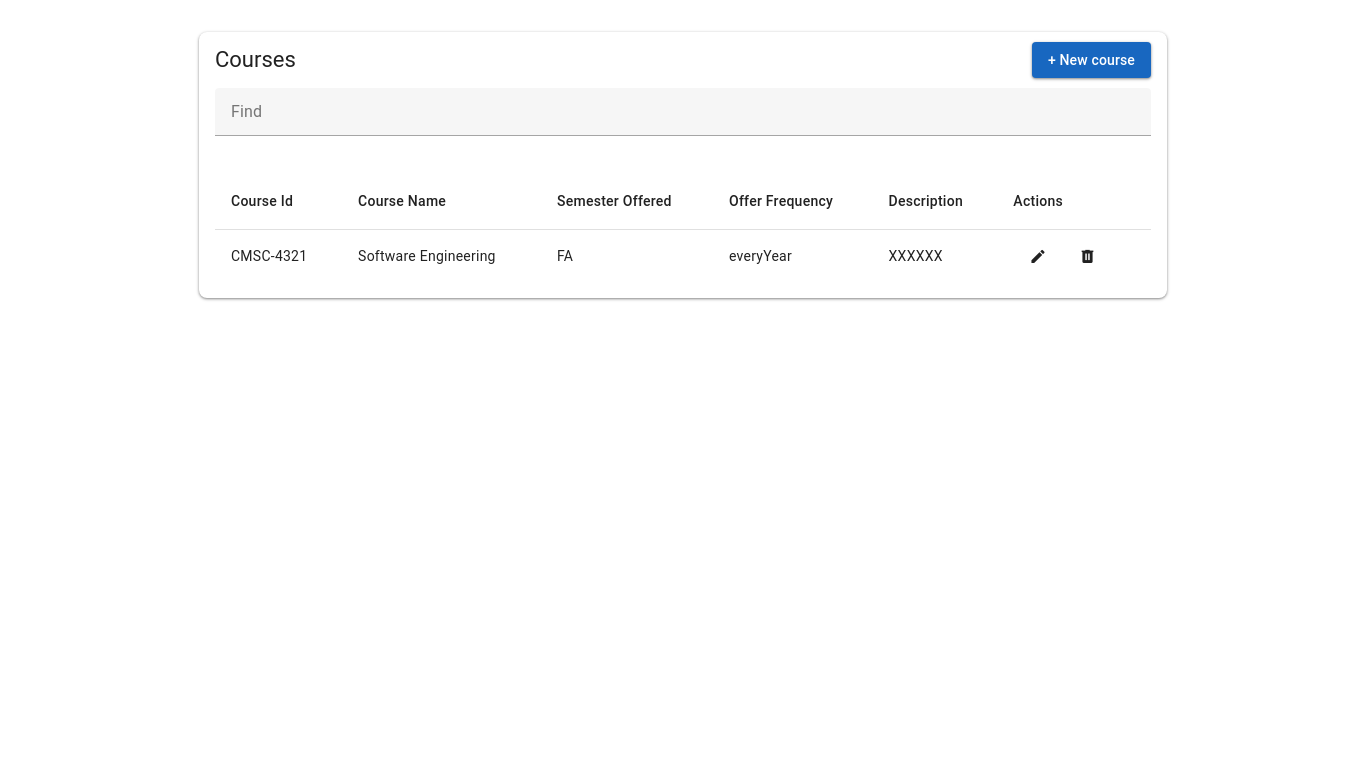
Test case: Feature 3 — Course Management › US-3.4 — Edit and delete courses › Admin deletes a course
Click the button named "Delete course": (1088,257) [1079,248,1096,266]
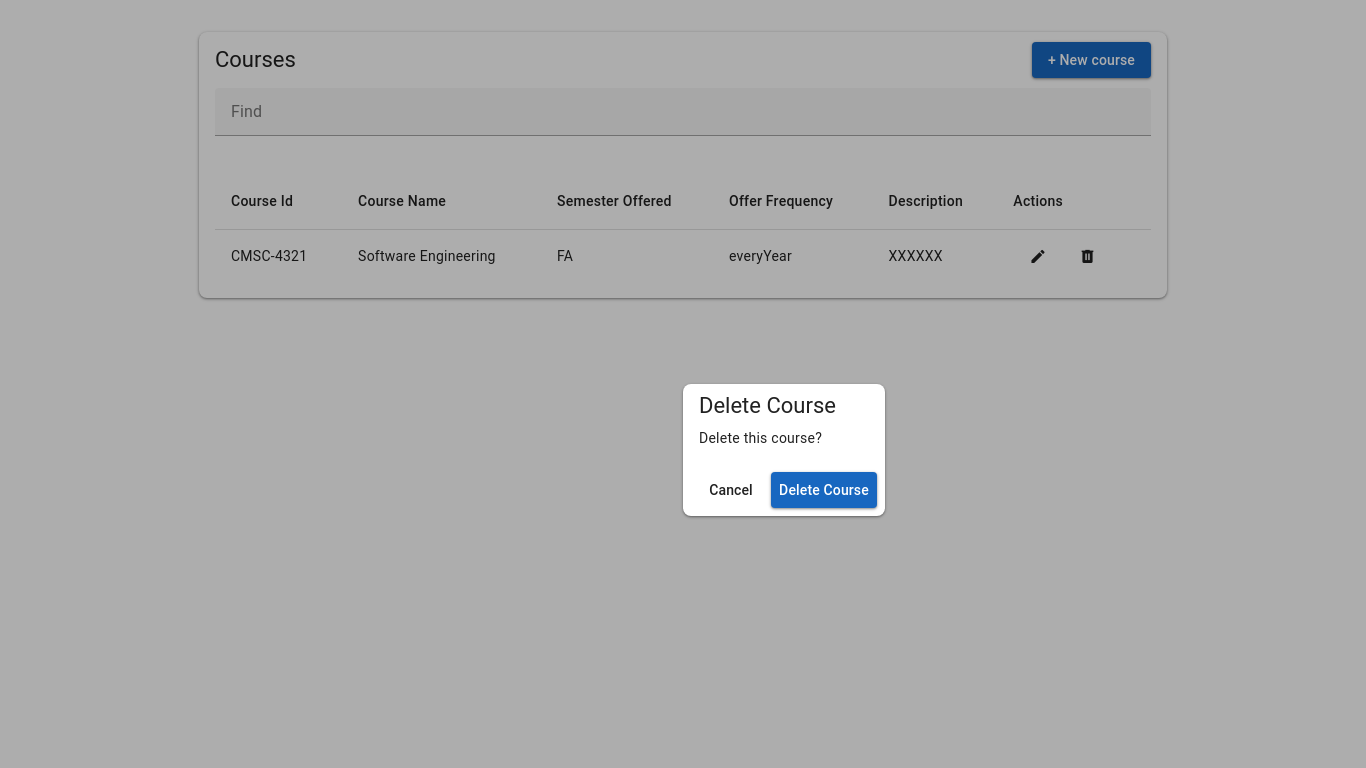
Click the button "Delete Course": (824,490) [771,472,877,508]
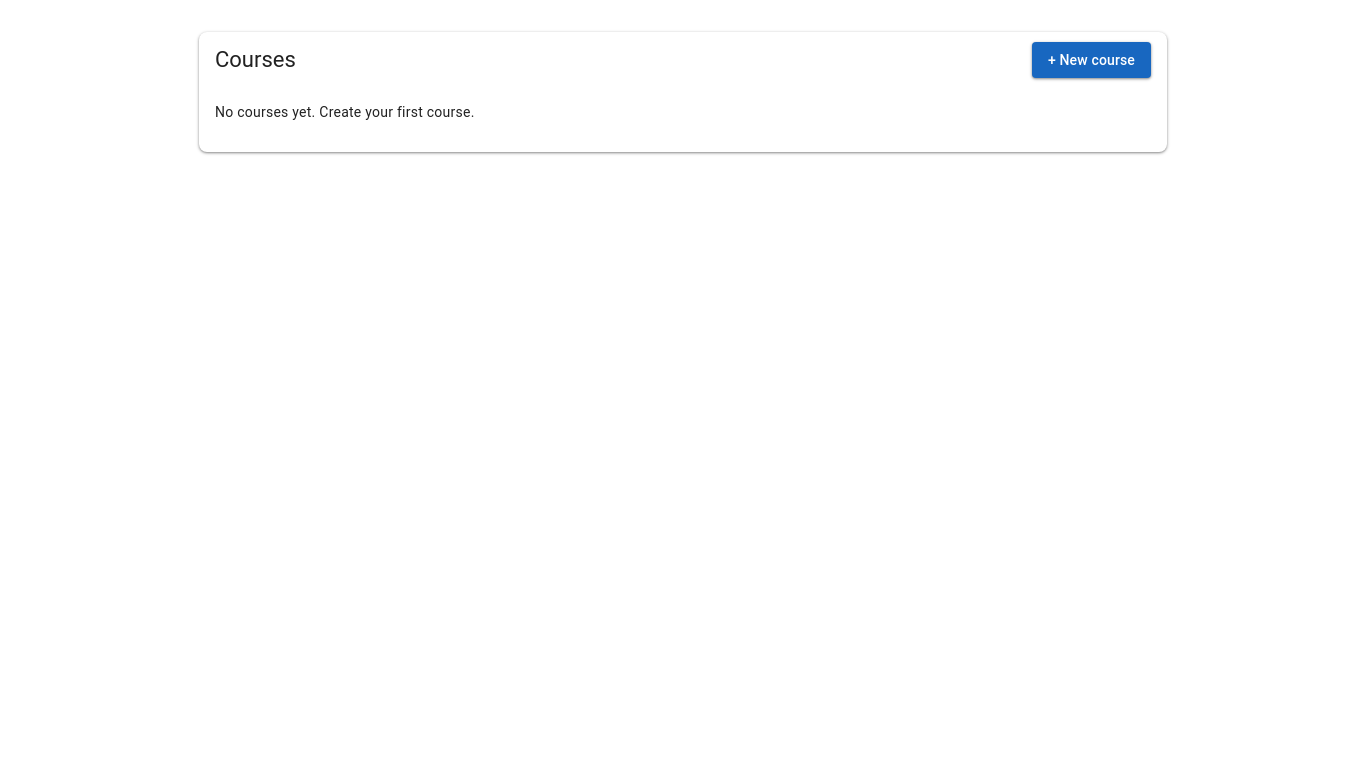
Result: the text "CMSC-4321" is gone
Result: the text "No courses yet. Create your first course." is shown at [215,104,475,120]
